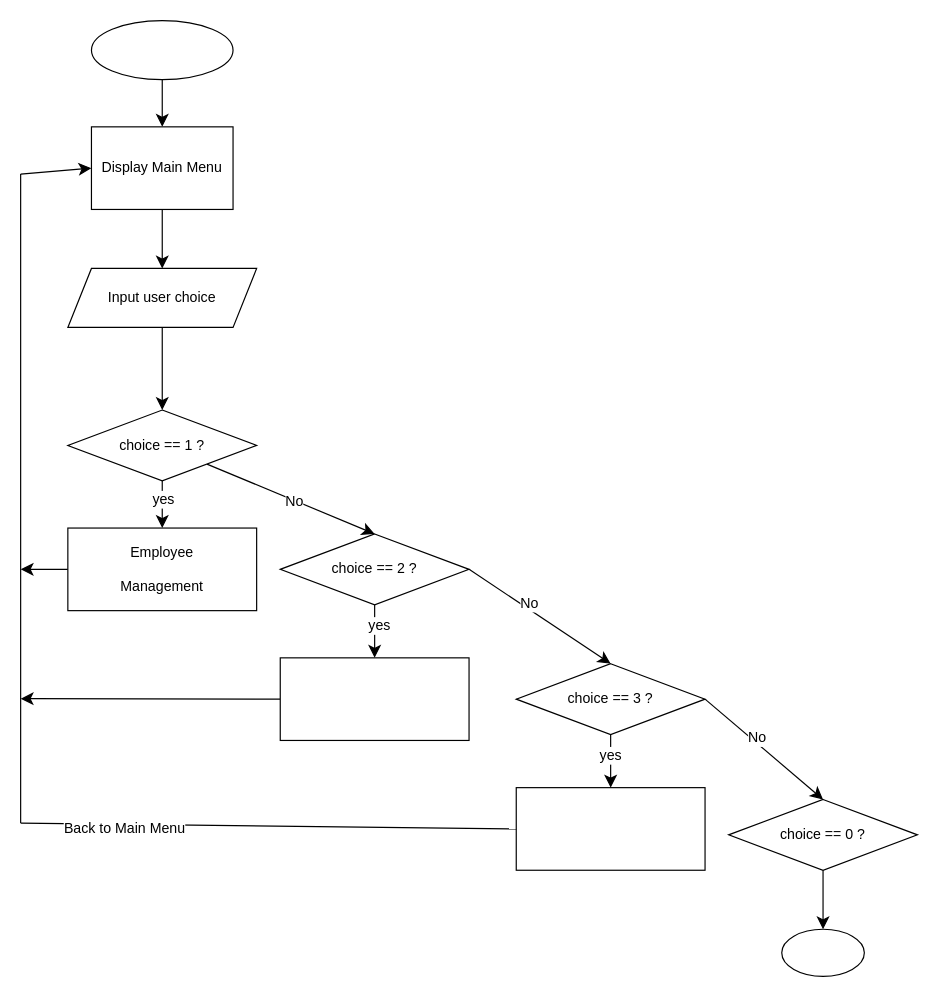
Some shapes in this 938 by 997 pixel diagram are drawn without their labels. The centre of each missing label's shape, as x and y in pixels:
"Department Management" belongs at pixel 374 698.
"END" belongs at pixel 822 952.
"Payroll / Report" belongs at pixel 610 828.
"START" belongs at pixel 161 49.
